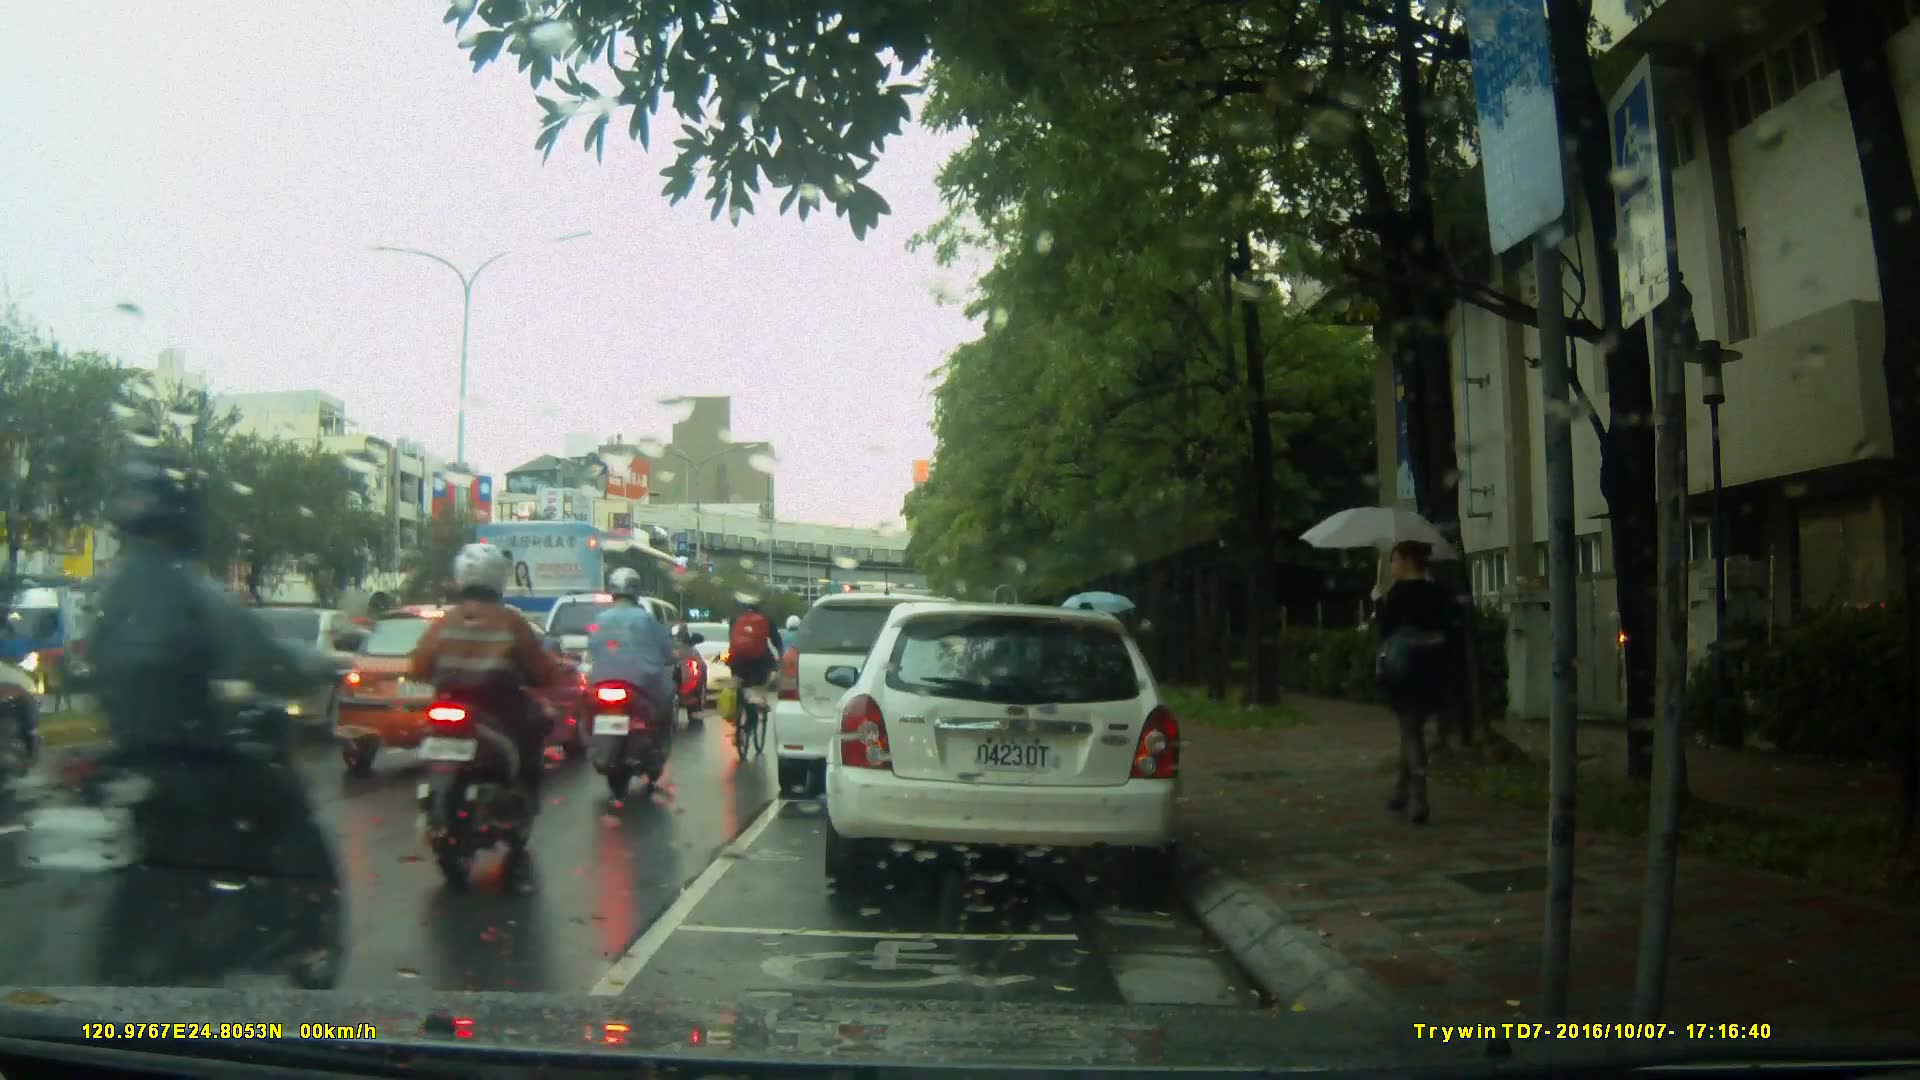pedestrian: (1349, 539, 1475, 829)
rider: (49, 447, 340, 1022), (404, 540, 567, 871), (589, 571, 685, 797), (725, 596, 790, 764)
vehicle: (835, 594, 1194, 898), (776, 590, 1026, 784), (326, 602, 597, 781), (471, 517, 702, 670), (181, 605, 418, 744), (520, 590, 707, 720)
